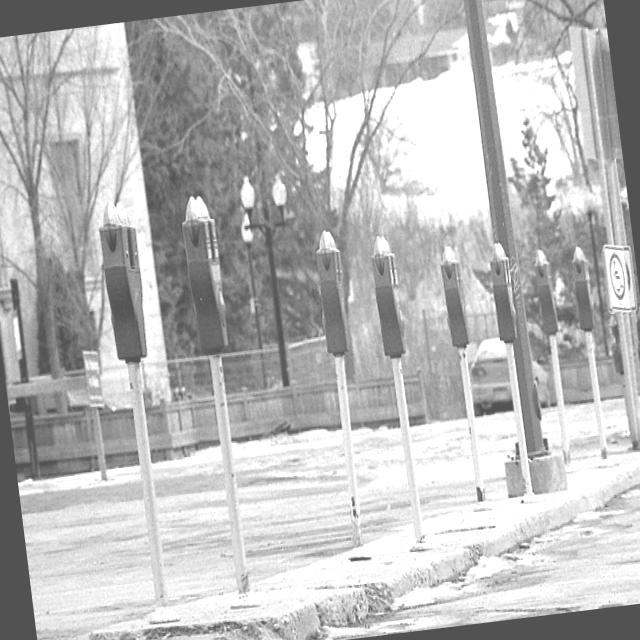Vehicle: (465, 332, 552, 417)
